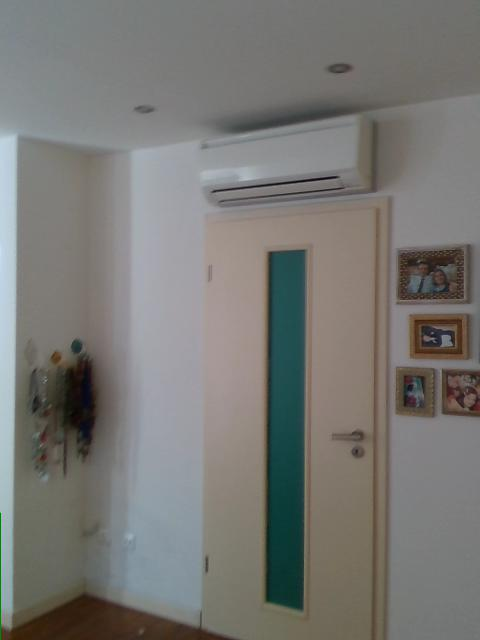door: (196, 197, 388, 637)
